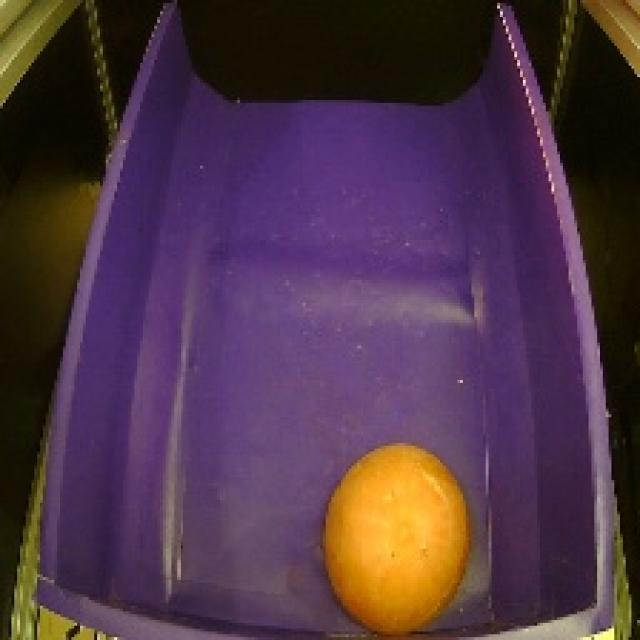carrots: (314, 434, 478, 640)
